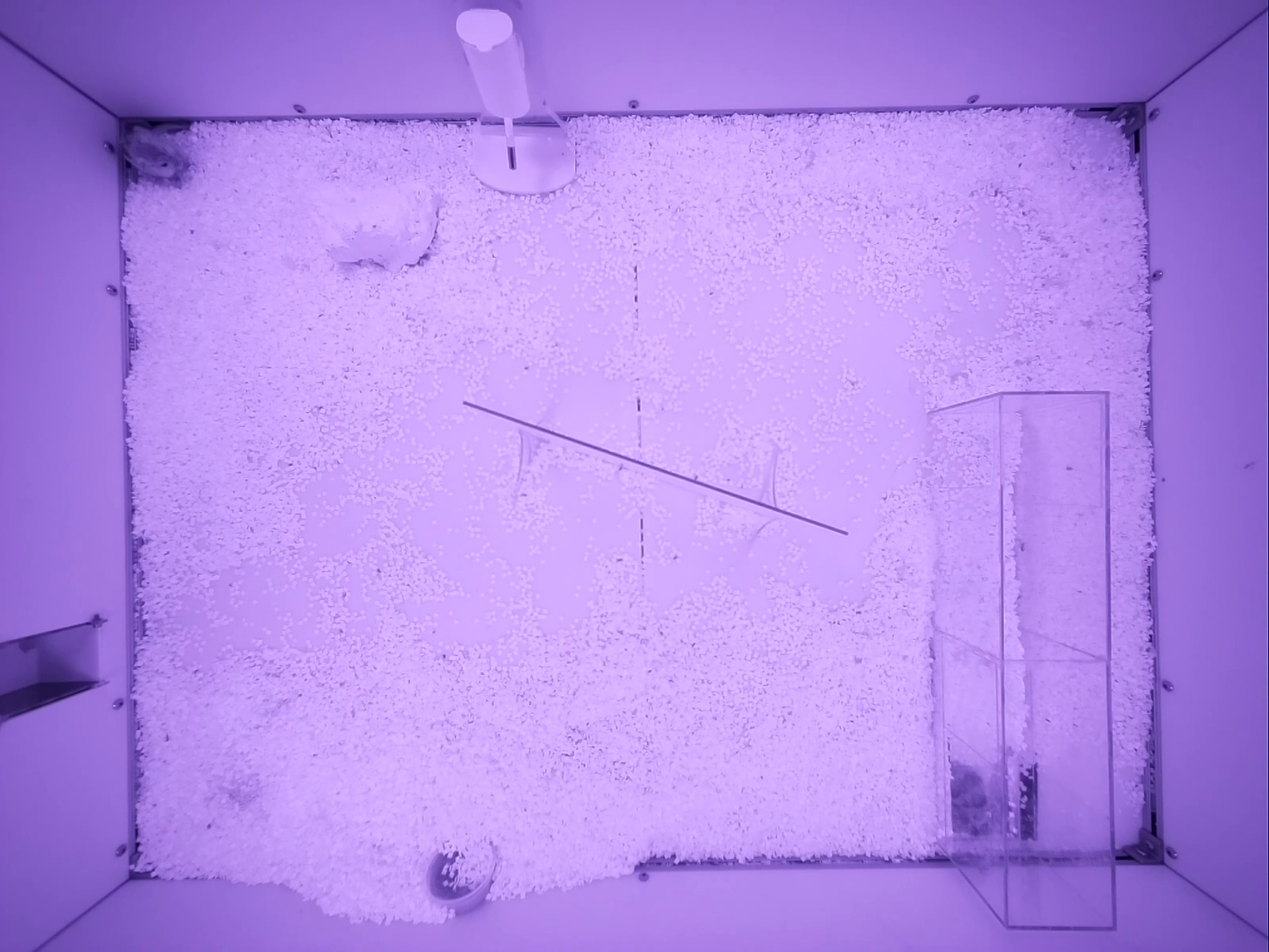adult_back: (123, 121, 190, 186)
